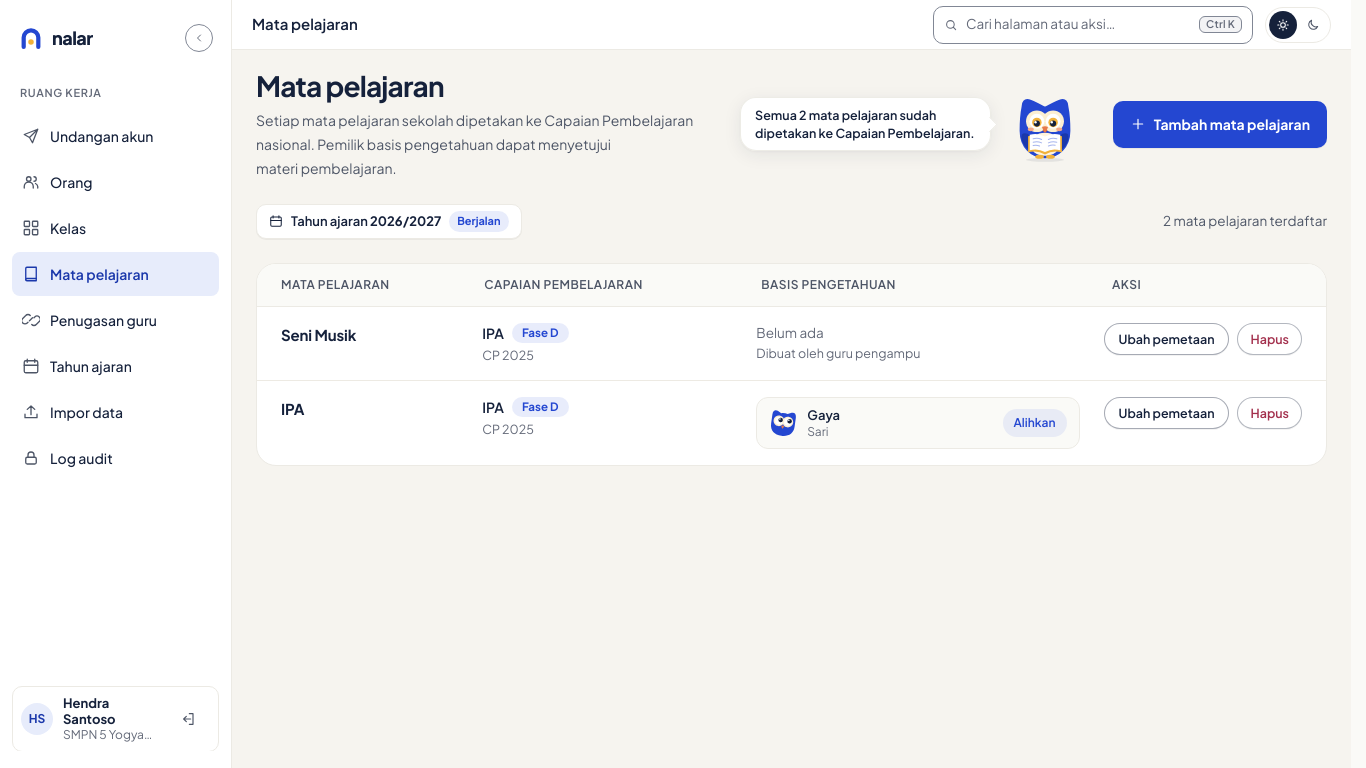
Scenario: school administration › deletes a subject, explaining a refusal while it is in use and not offering it while a knowledge base exists
The image size is (1366, 768).
Click the button with aria-label "Hapus IPA". click: (1270, 413)
box: [1238,396,1302,429]
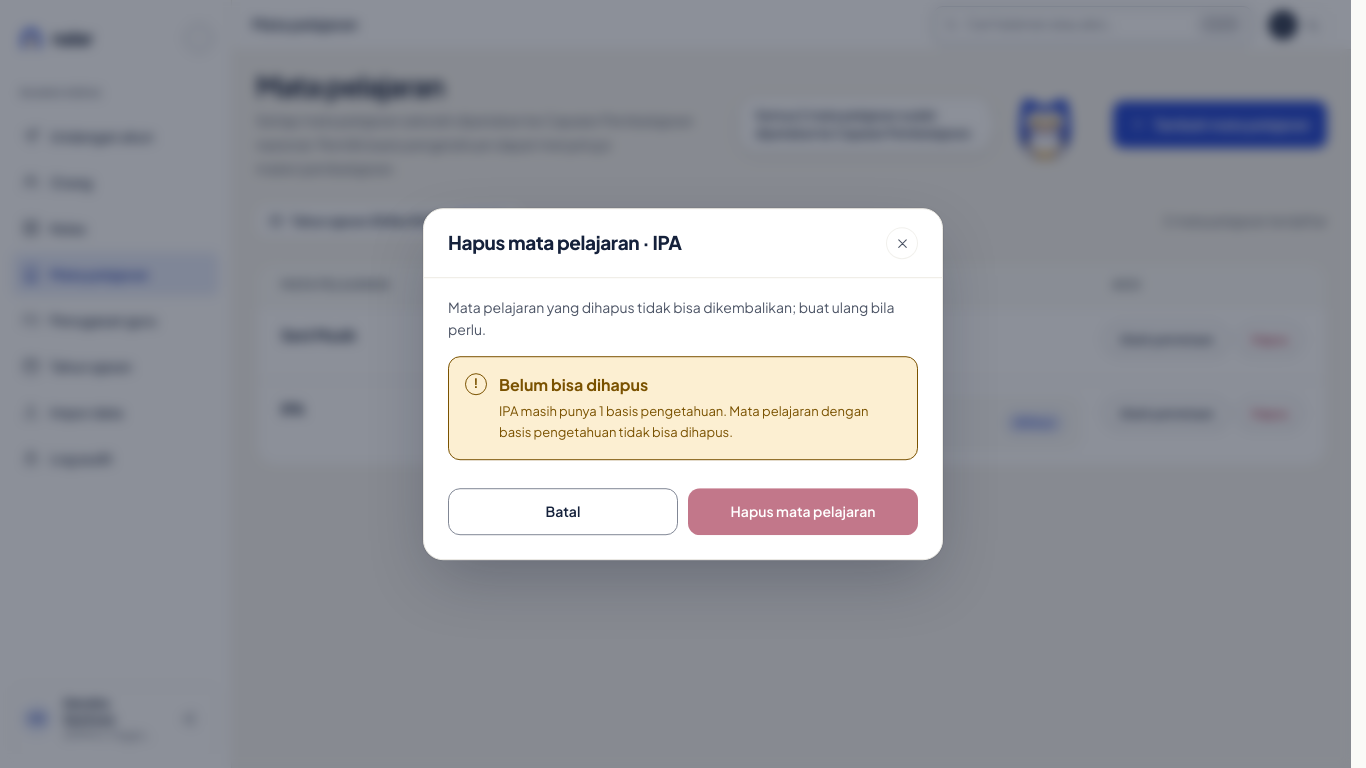
Result: the text "masih punya 1 basis pengetahuan" is shown at [499,401,901,443]
Result: the button "Hapus mata pelajaran" is disabled at [688,488,918,535]
Click the button "Batal". click: (563, 511)
box: [448,488,678,535]
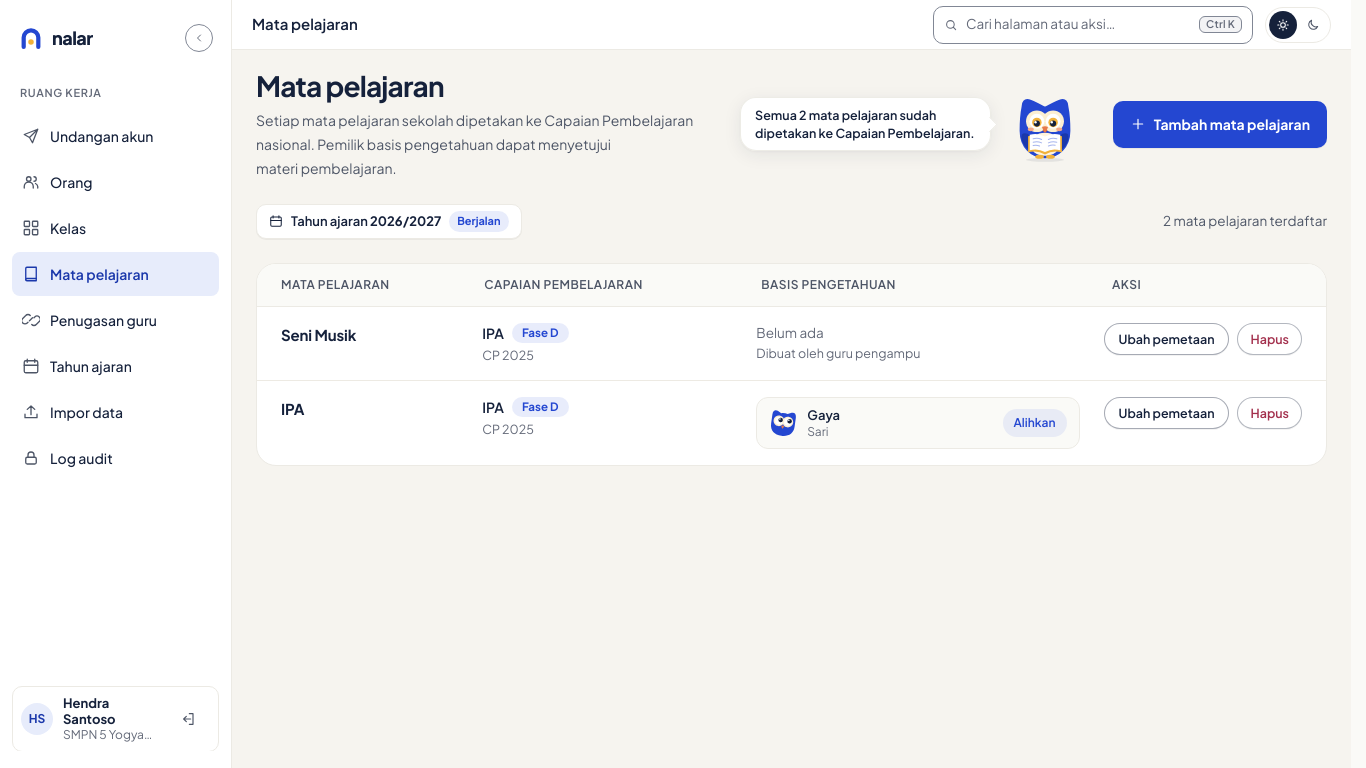
Click the button with aria-label "Hapus Seni Musik". click: (1270, 339)
box: [1238,322,1302,355]
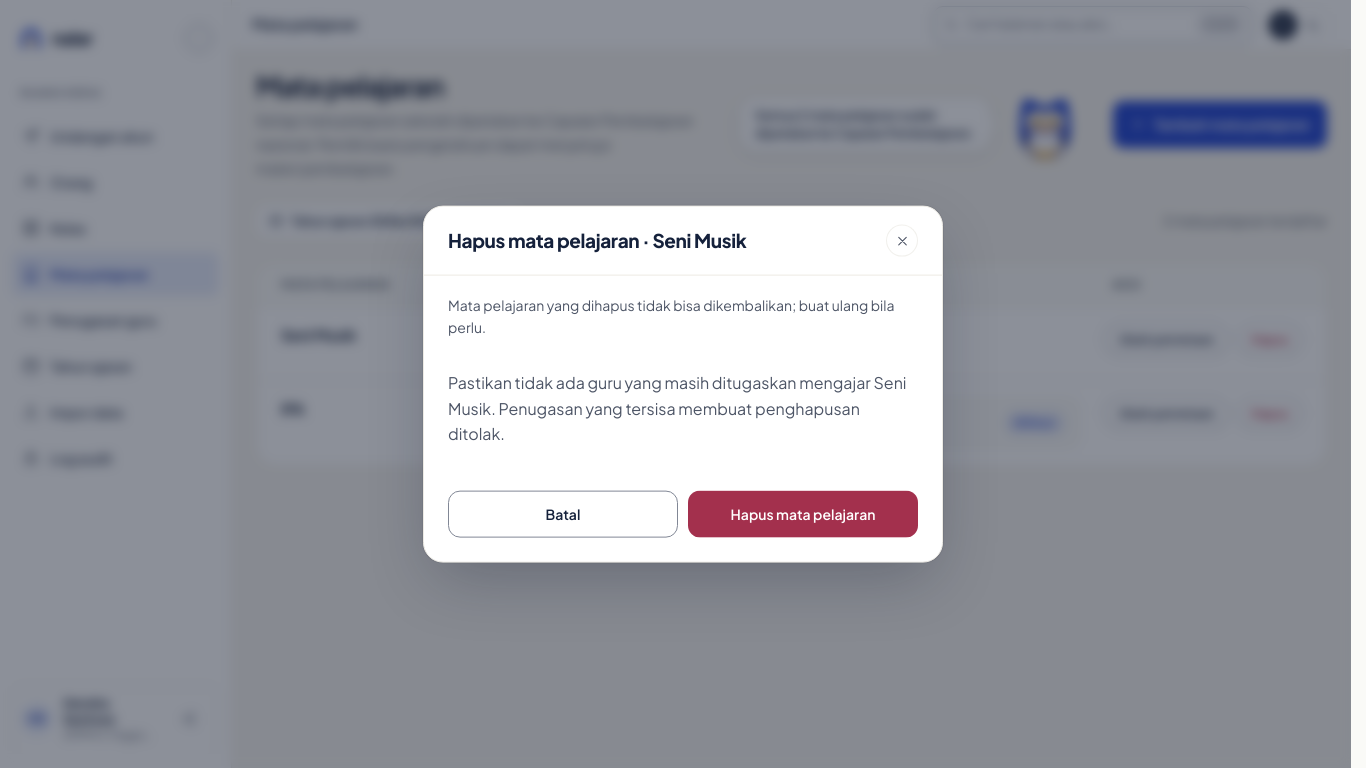
Click the button "Hapus mata pelajaran". click: (803, 514)
box: [688,490,918,537]
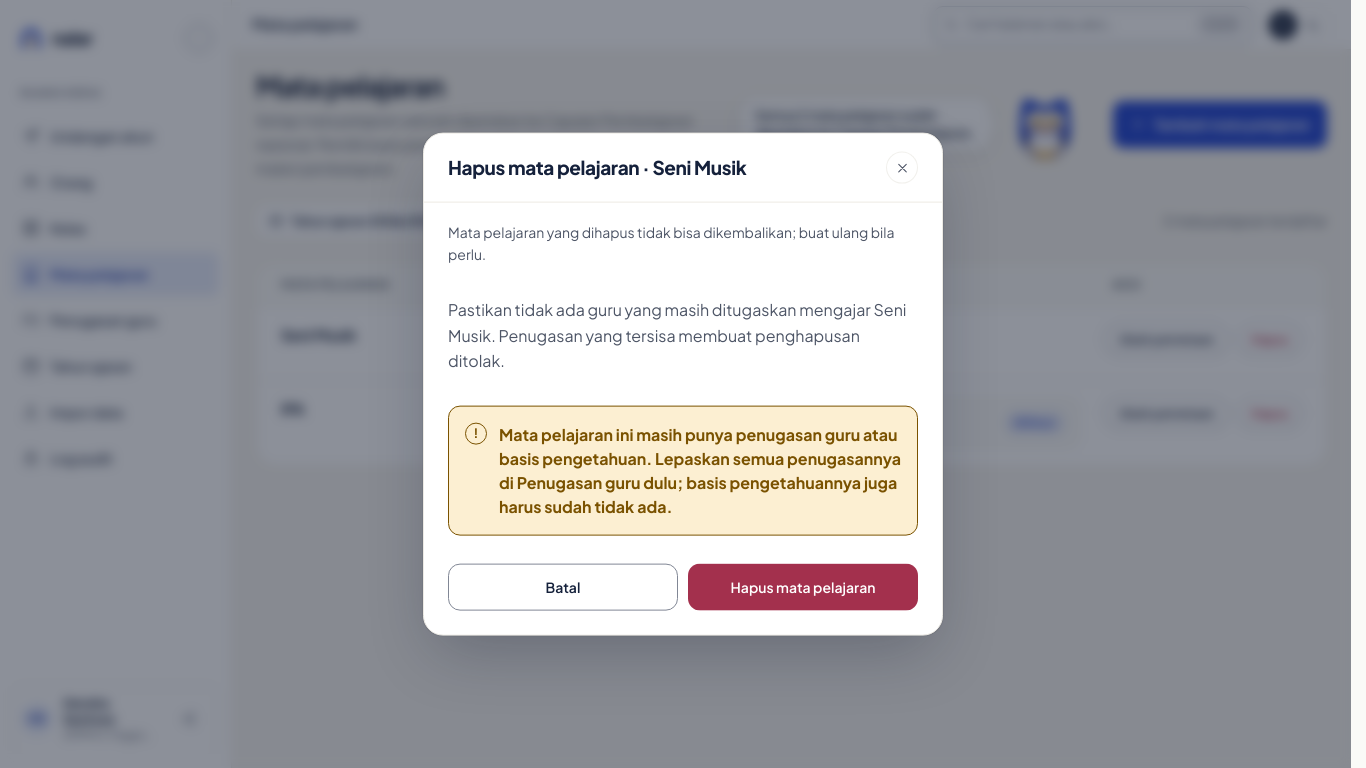
Result: the text "masih punya penugasan guru atau basis pengetahuan" is shown at [499,423,901,516]
Click the button "Hapus mata pelajaran". click: (803, 587)
box: [688,563,918,610]
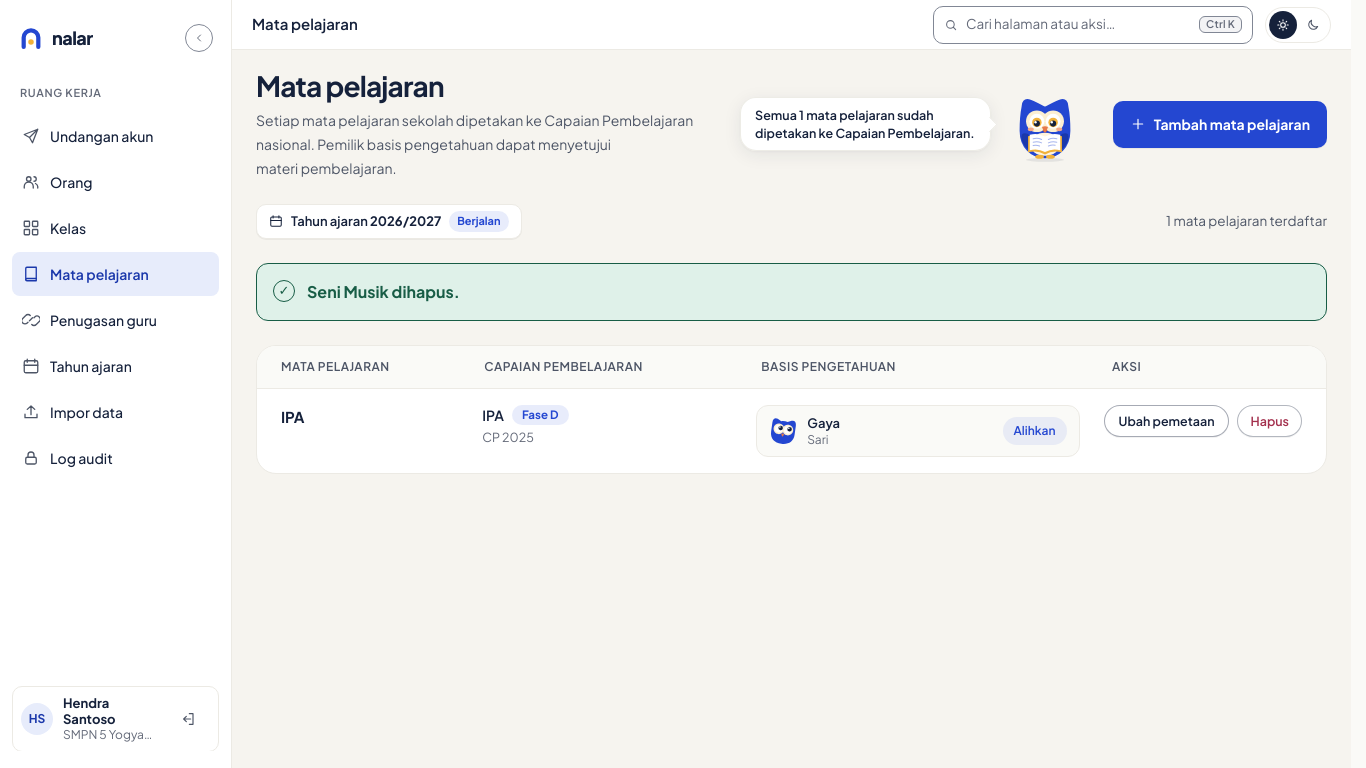
Result: the text "Seni Musik dihapus." is shown at [307,280,460,304]
